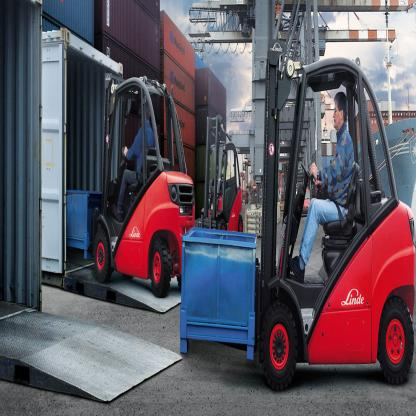box: (178, 222, 258, 364), (64, 187, 102, 265)
forklift: (258, 36, 416, 388)
